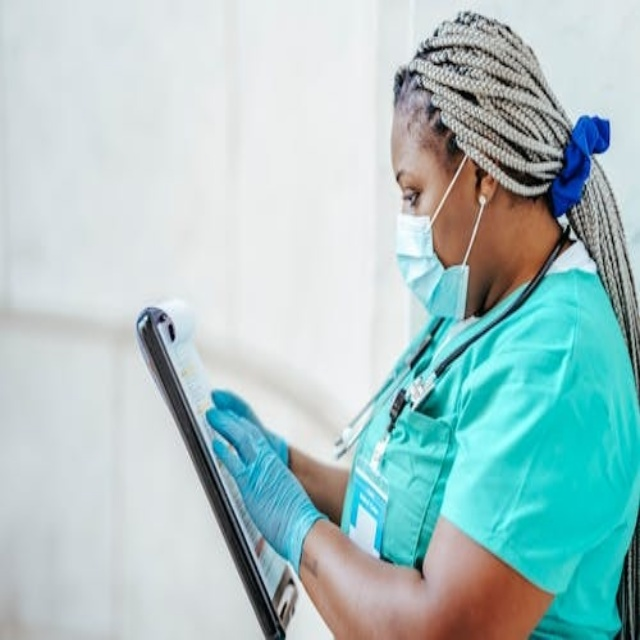Guantes: (202, 371, 330, 573)
Mascara: (396, 154, 475, 320)
Sin_gafas: (387, 144, 426, 217)
